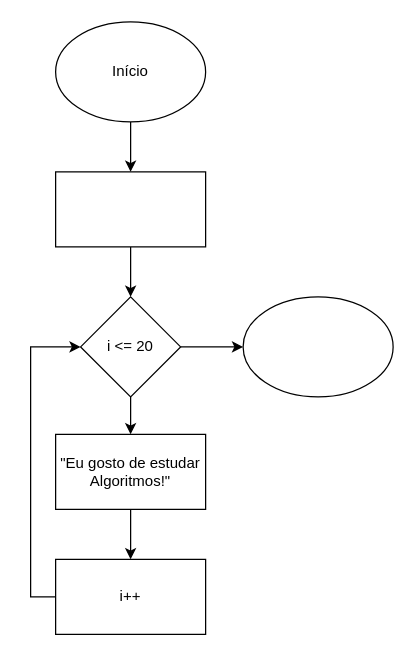
The diagram is 415 pixels wide and 656 high, and some of its shapes have lost their labels. The centre of each missing label's shape, as x and y in pixels:
"Fim" goes at [317,346].
"i = 0" goes at [130,209].
